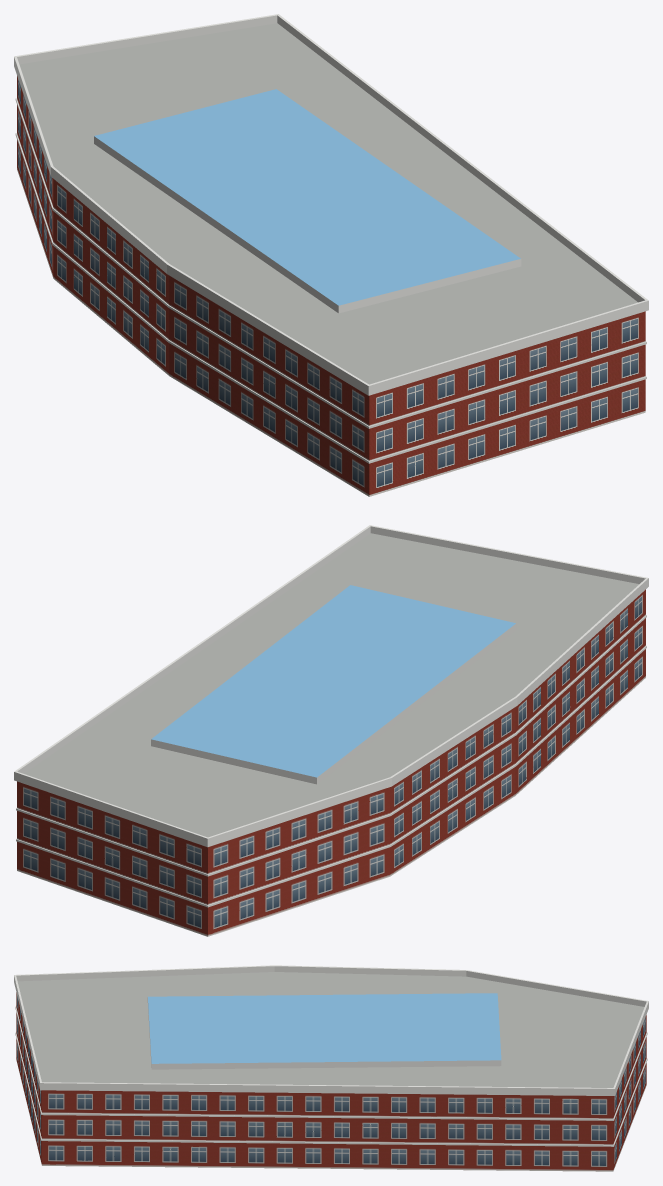
The model's file is zhongyuan_laoshitang.glb.
The picture shows the model from 3 angles, top to bottom: view 1: azimuth 30°, elevation 25°; view 2: azimuth 150°, elevation 25°; view 3: azimuth 270°, elevation 25°; orthographic projection. The views are drawn at different scales.
Visible parts, largest first — view 1: 中苑老食堂; view 2: 中苑老食堂; view 3: 中苑老食堂.
Part boxes in pixels (x1,y1,x2,y2): 中苑老食堂: (14, 14, 648, 496); 中苑老食堂: (14, 525, 648, 936); 中苑老食堂: (14, 965, 648, 1171).
Bounding box in the file's own units: 36.77 × 11.6 × 79.83.
4 materials, 1 textured.
